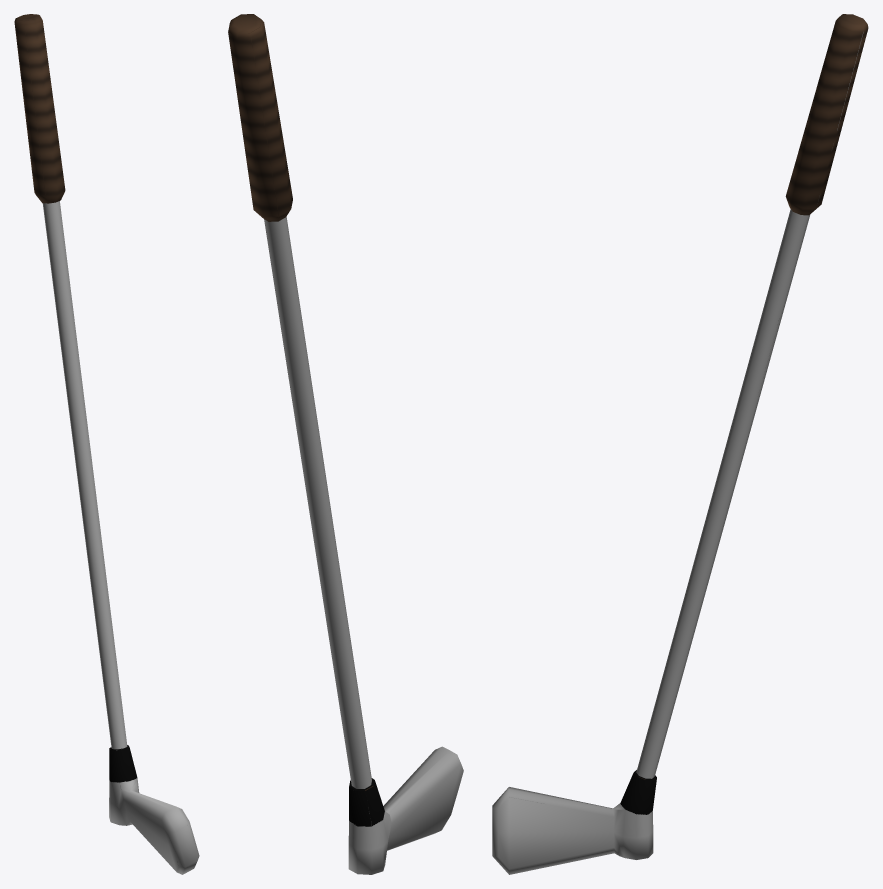
The model's file is Club_sep.fbx.
3 renders of one model, left to right at view 1: azimuth 30°, elevation 25°; view 2: azimuth 150°, elevation 25°; view 3: azimuth 270°, elevation 25°, orthographic. The views are drawn at different scales.
Parts seen in each view (by area): view 1: Club.003, Club.005, Club.004; view 2: Club.003, Club.005, Club.004; view 3: Club.003, Club.004, Club.005.
Part boxes in pixels (x1,y1,x2,y2): Club.003: (42, 201, 137, 782); Club.005: (14, 14, 65, 203); Club.004: (109, 778, 199, 874); Club.003: (264, 217, 384, 826); Club.005: (228, 14, 292, 221); Club.004: (348, 746, 463, 874); Club.003: (620, 209, 810, 814); Club.004: (492, 787, 653, 874); Club.005: (785, 14, 868, 215).
Bounding box in the file's own units: 191 × 3845 × 1535.
Materials: 1 (1 with a texture image).
